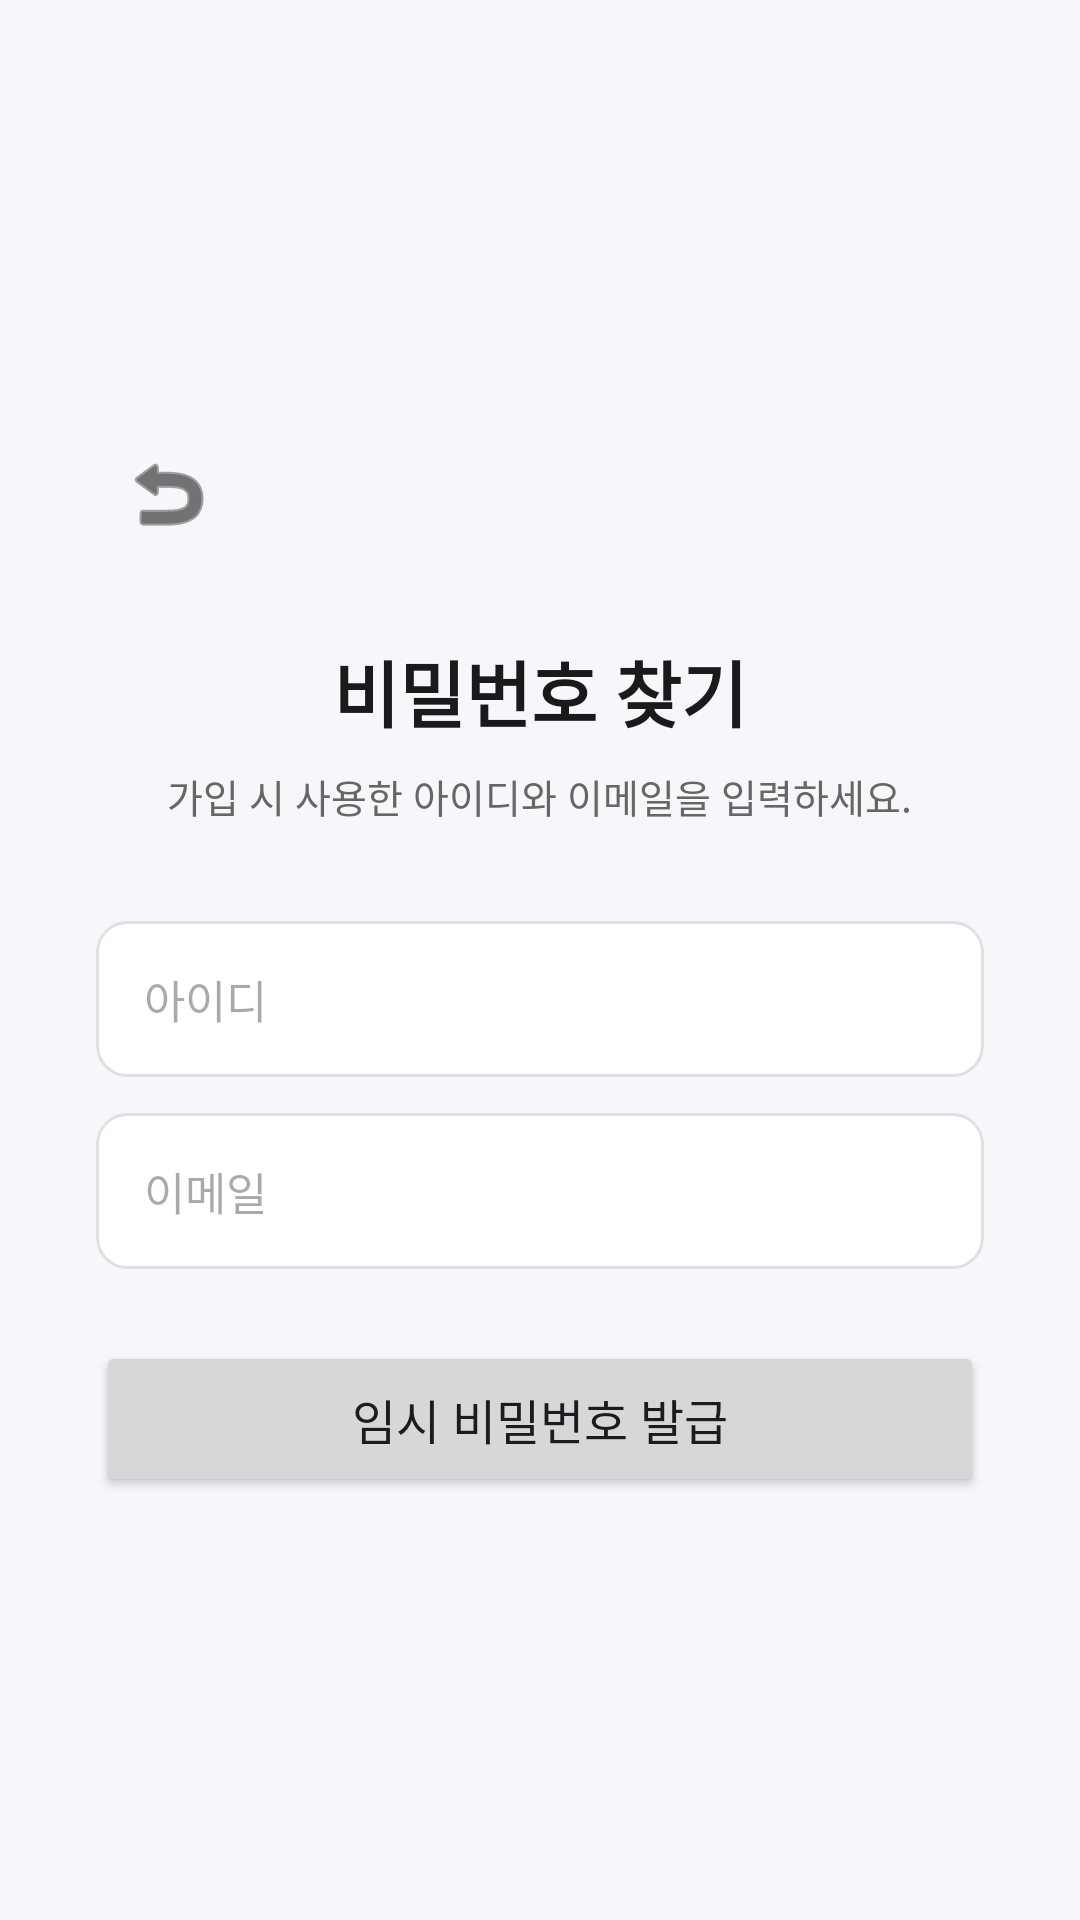

Icons on this 1080 x 1920 Android screen, each with the point to tap as (x=x, y=y):
뒤로: (x=169, y=494)
